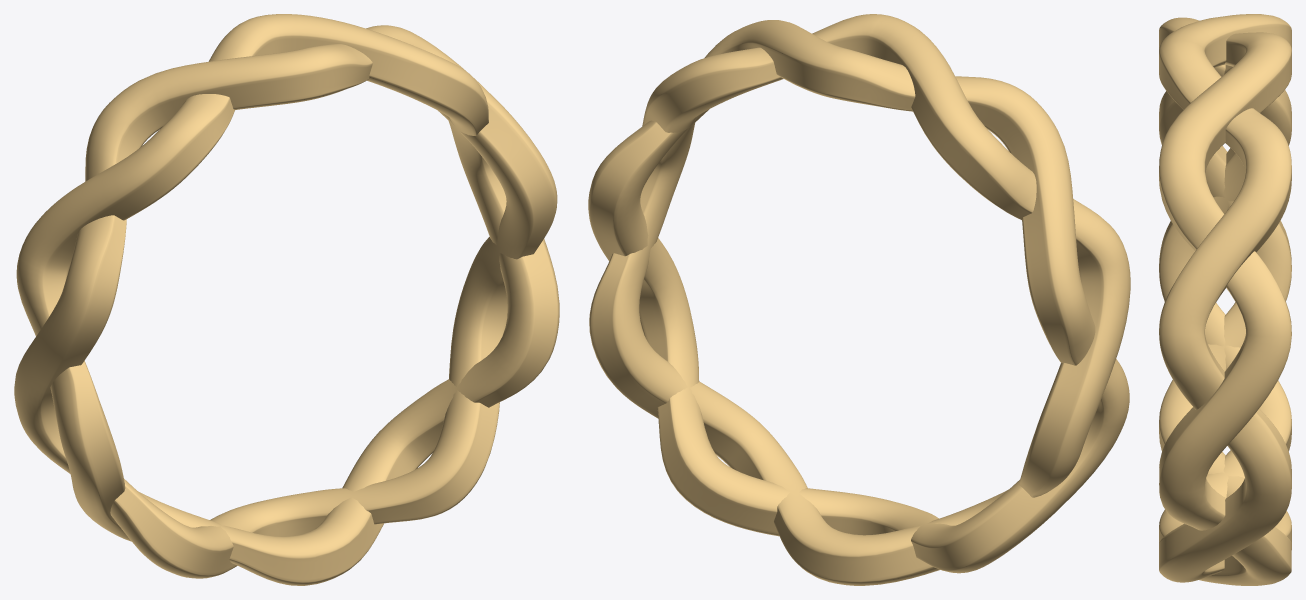
3 renders of one model, left to right at view 1: azimuth 30°, elevation 25°; view 2: azimuth 150°, elevation 25°; view 3: azimuth 270°, elevation 25°, orthographic. The views are drawn at different scales.
Size of the model in its own units: 0.0262 by 0.0263 by 0.0061.
